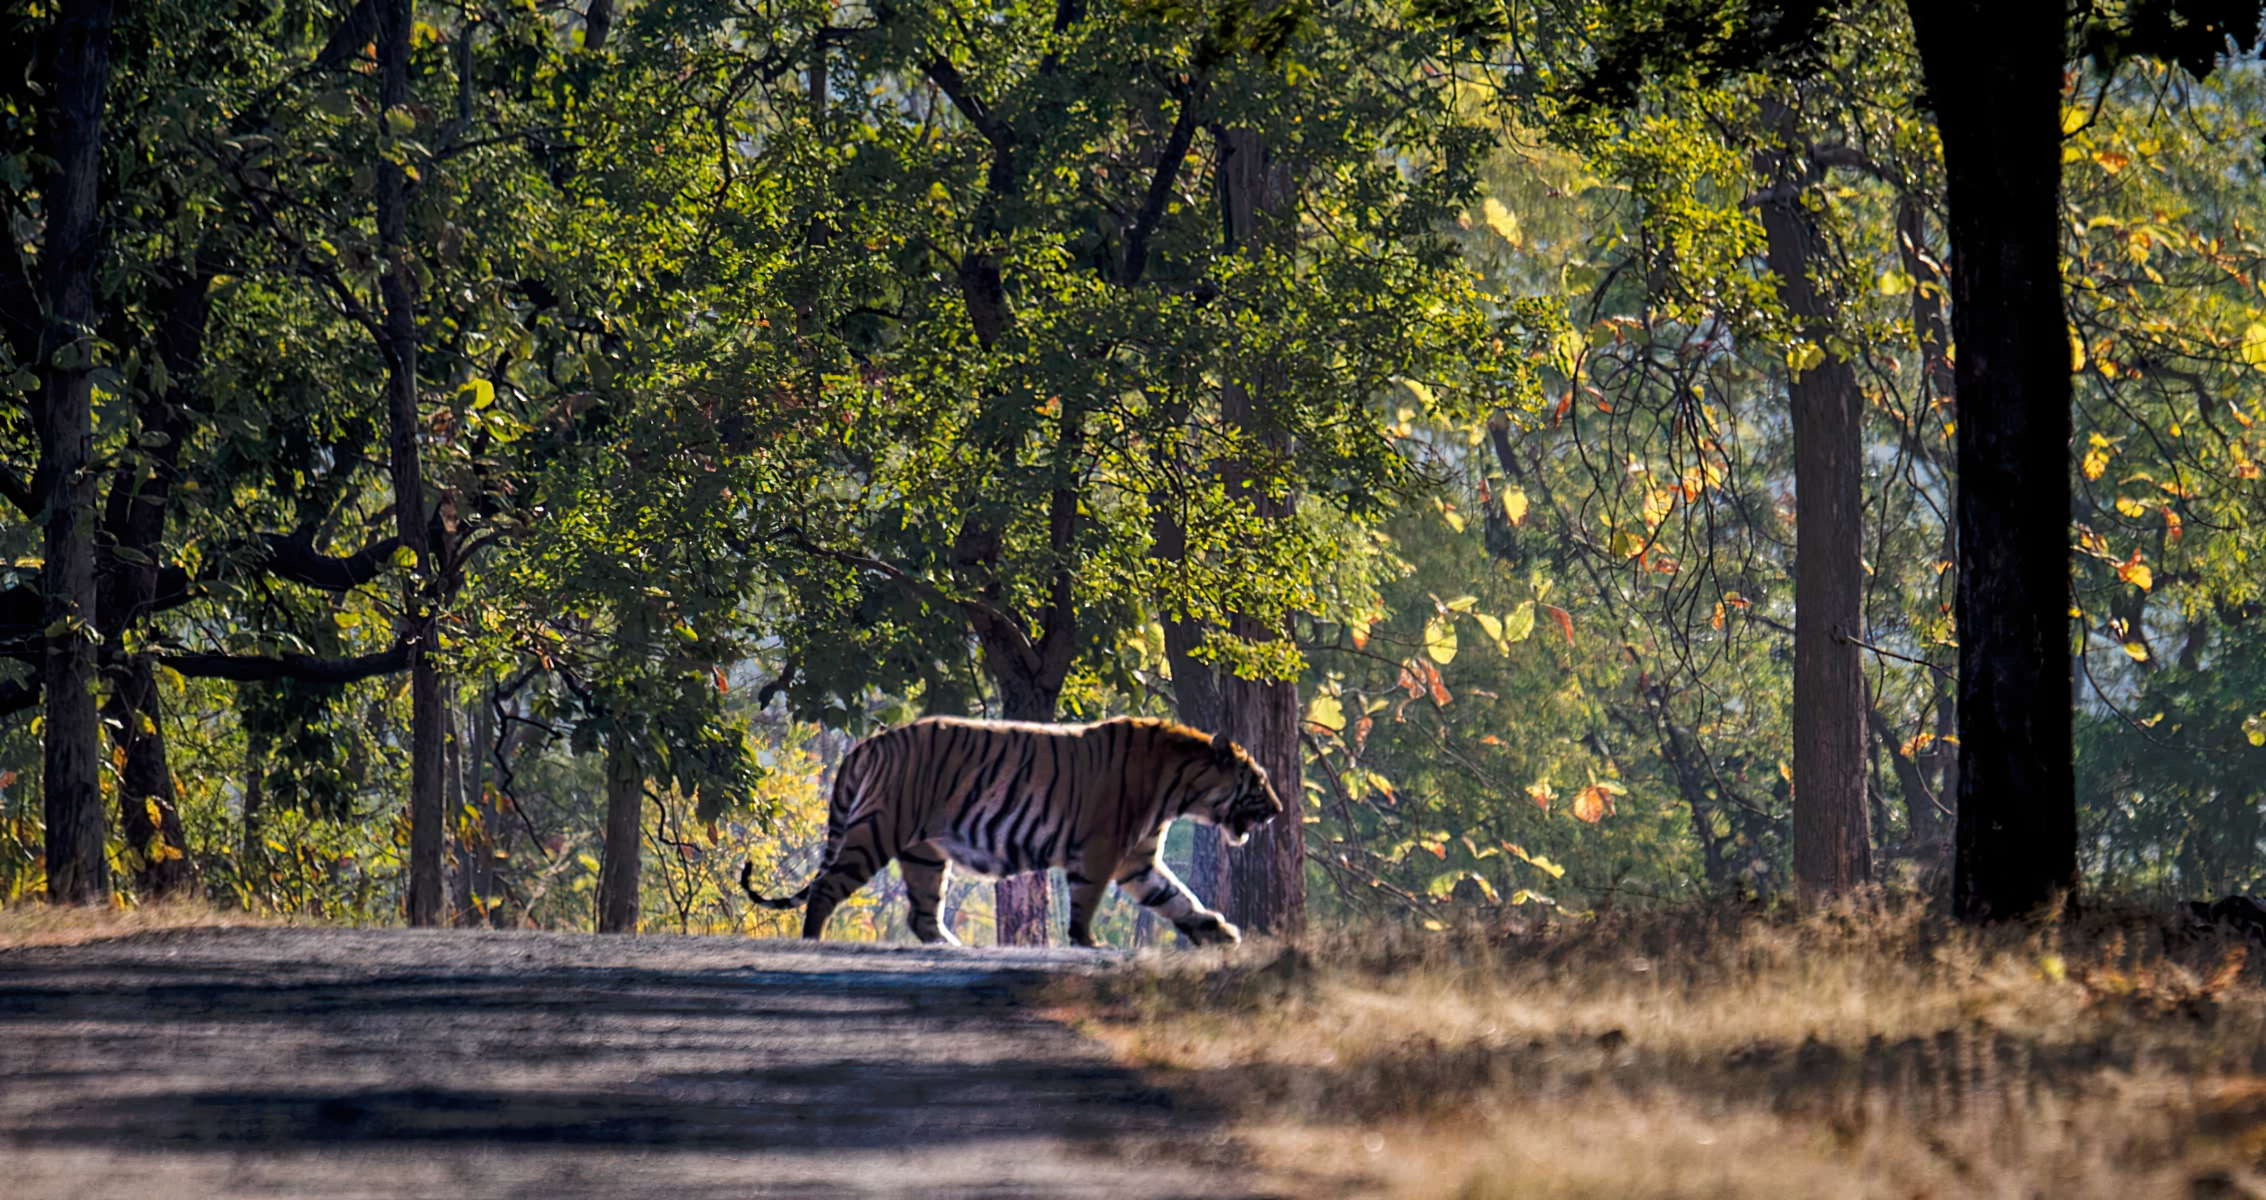tiger: (749, 673, 1314, 959)
